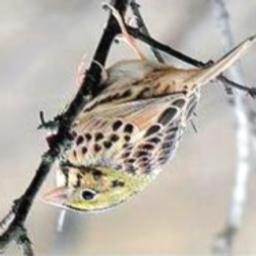Sparrow: (36, 0, 256, 217)
